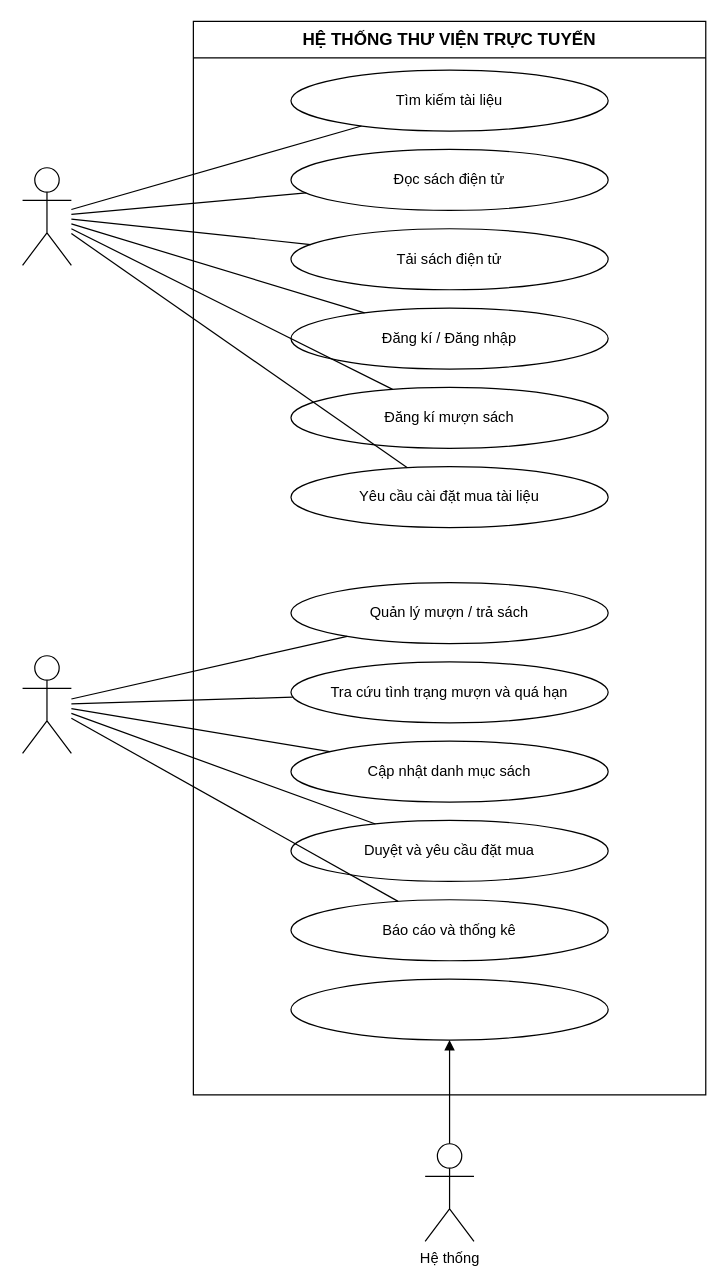
Some shapes in this 727 by 1288 pixel diagram are drawn without their labels. The centre of each missing label's shape, as x and y in pixels:
"Gửi email nhắc hạn trả" goes at (449,1009).
"Thủ thư" goes at (46,704).
"Độc giả" goes at (46,216).
